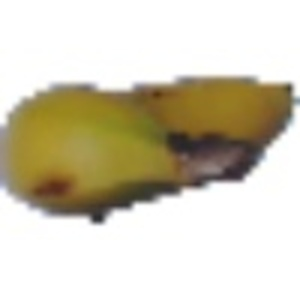banana: (4, 66, 295, 217)
